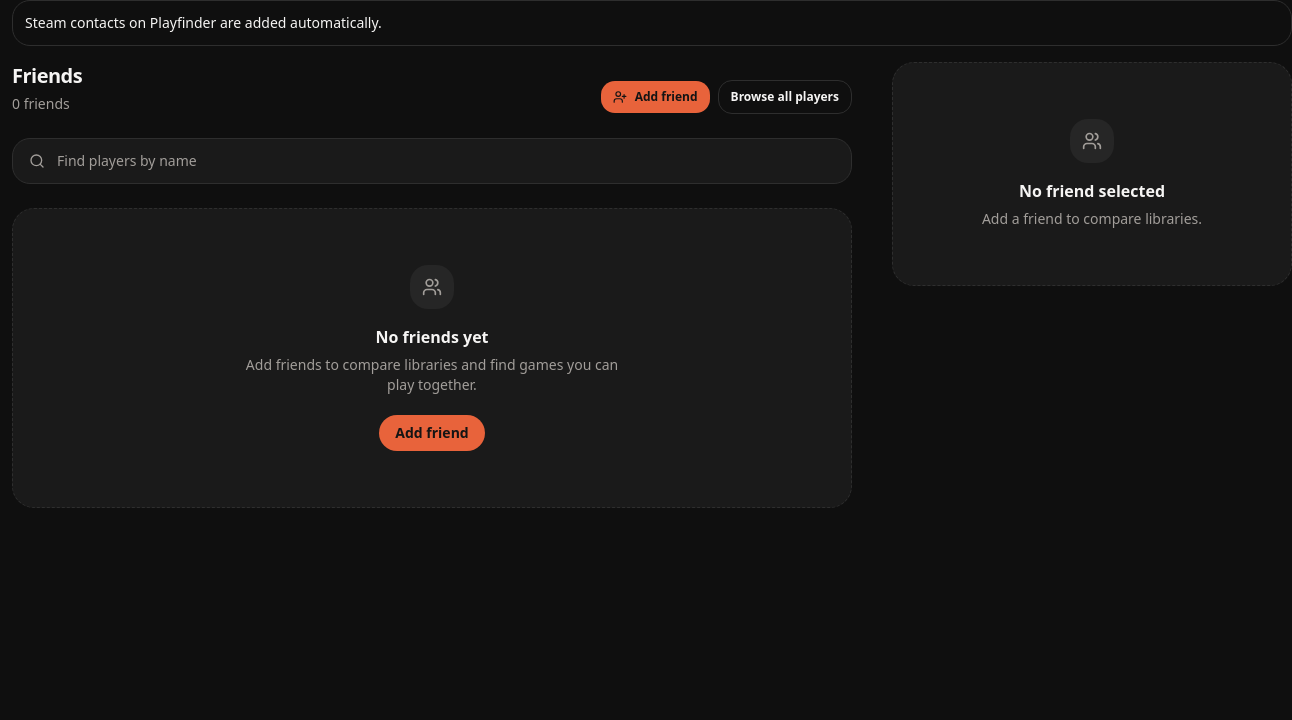
FriendsPage › searches for a player and sends a friend request
Click the button "Add friend" next to "Browse all players": click(655, 97) [601,81,710,113]
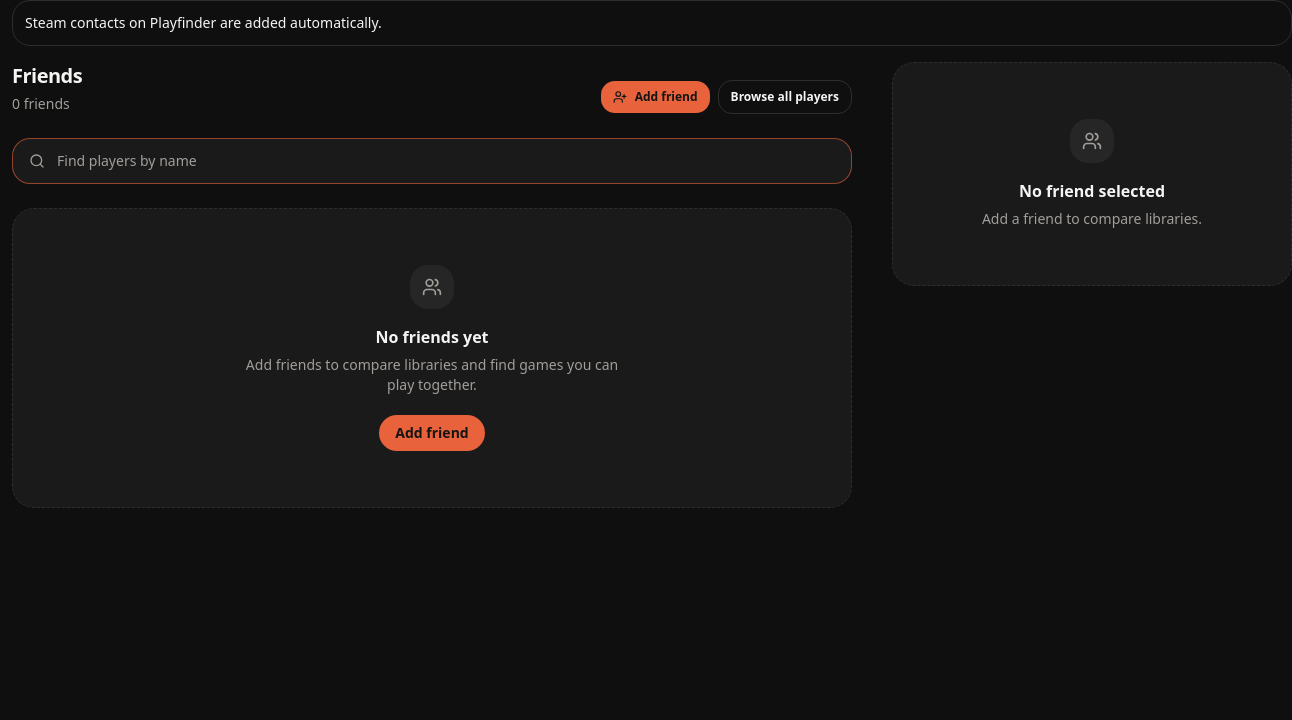
In the field labelled "Find players": (446, 161) [57,151,835,171], type "Sam"
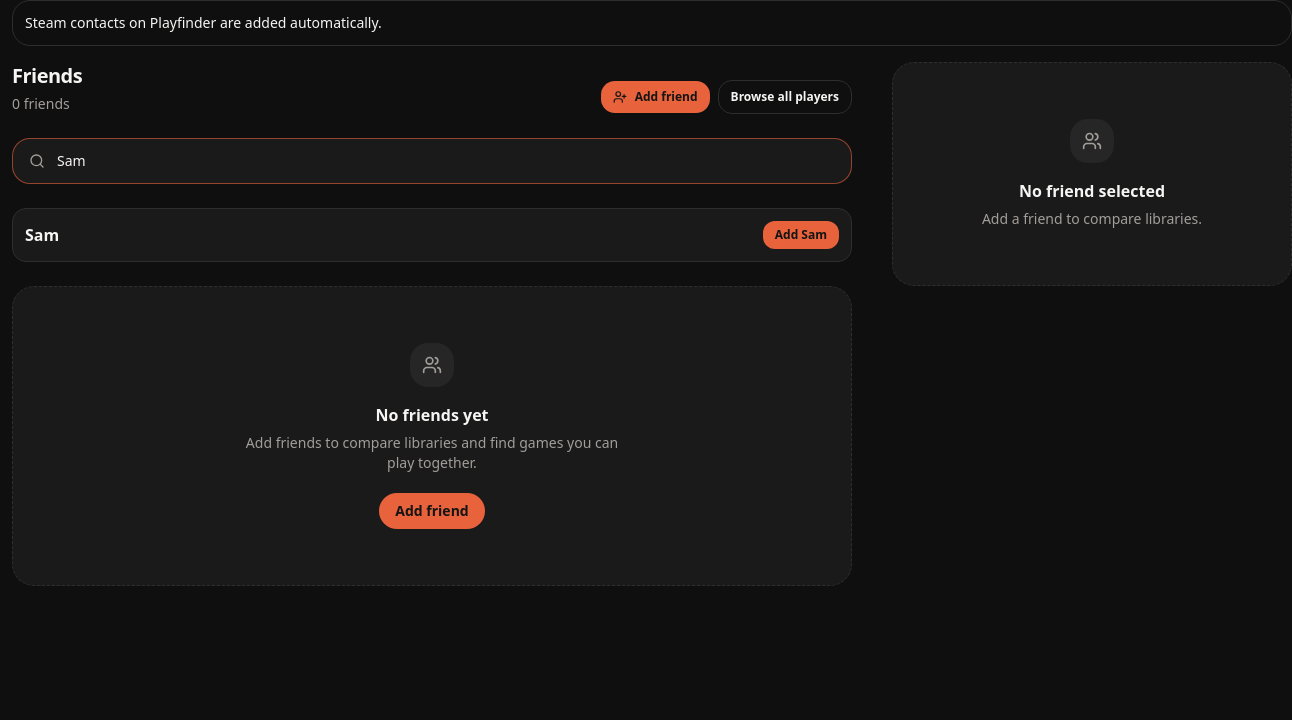
Click the button "Add Sam": click(801, 235) [763,221,839,249]
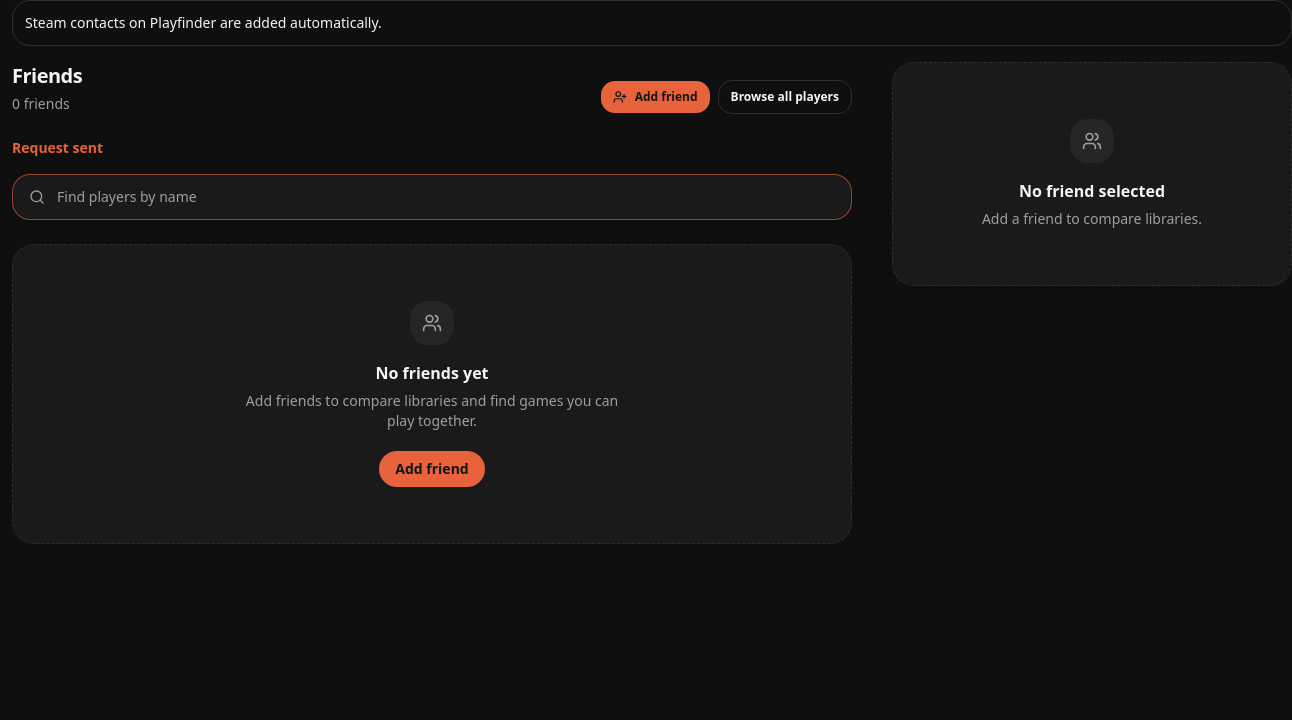
Expected: the text "Request sent" is shown, [12,138,103,157]
